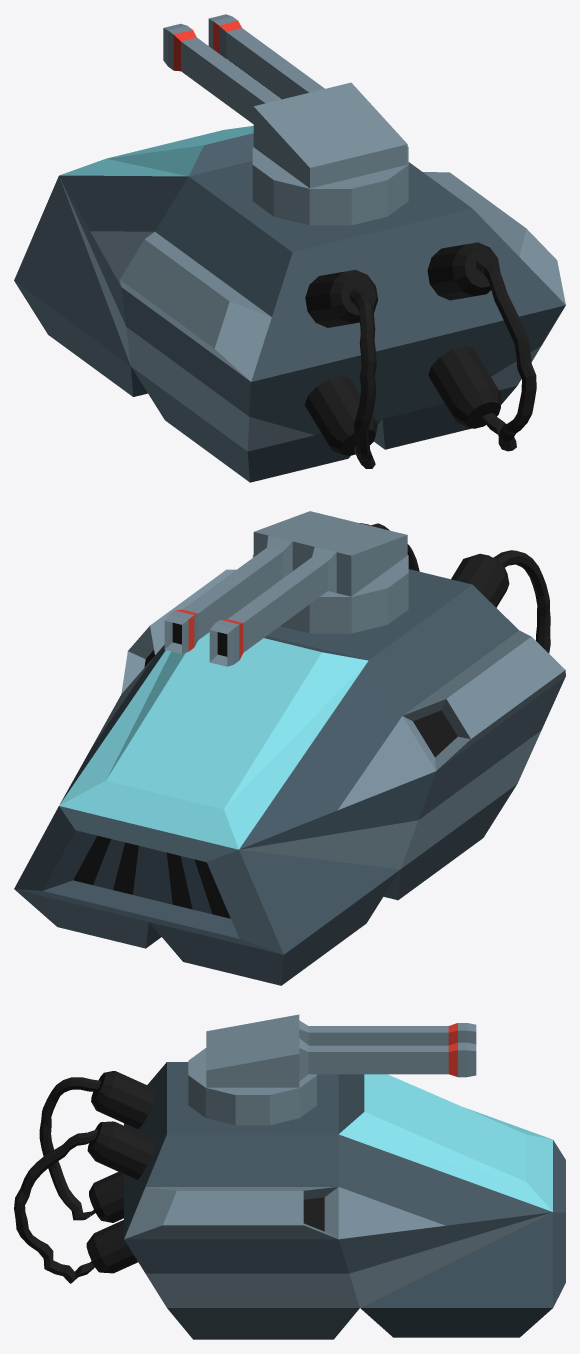
The model's file is scene_CnS5qkWtZE.glb.
3 renders of one model, top to bottom at view 1: azimuth 30°, elevation 25°; view 2: azimuth 150°, elevation 25°; view 3: azimuth 270°, elevation 25°, orthographic. The views are drawn at different scales.
Visible parts, largest first — view 1: group1538145713, group124758516, group164901870, group1720164203, group2122038685, group1426099263, group126274961, group129962282, group714026519; view 2: group1538145713, group124758516, group164901870, group129962282, group714026519; view 3: group1538145713, group124758516, group164901870, group2122038685, group126274961, group129962282, group714026519, group1720164203, group1426099263.
Part boxes in pixels (bbox=[...]): group1538145713: bbox=[14, 126, 565, 482]; group124758516: bbox=[163, 14, 407, 188]; group164901870: bbox=[252, 147, 408, 225]; group1720164203: bbox=[428, 346, 501, 428]; group2122038685: bbox=[476, 257, 536, 451]; group1426099263: bbox=[305, 376, 377, 455]; group126274961: bbox=[427, 242, 500, 300]; group129962282: bbox=[305, 269, 378, 327]; group714026519: bbox=[349, 289, 376, 468]; group1538145713: bbox=[14, 569, 565, 985]; group124758516: bbox=[164, 511, 407, 666]; group164901870: bbox=[252, 555, 408, 633]; group129962282: bbox=[451, 553, 509, 607]; group714026519: bbox=[493, 550, 550, 653]; group1538145713: bbox=[124, 1062, 565, 1339]; group124758516: bbox=[206, 1014, 476, 1087]; group164901870: bbox=[188, 1048, 316, 1125]; group2122038685: bbox=[14, 1129, 98, 1283]; group126274961: bbox=[87, 1121, 155, 1179]; group129962282: bbox=[91, 1071, 156, 1128]; group714026519: bbox=[39, 1077, 100, 1220]; group1720164203: bbox=[86, 1220, 137, 1273]; group1426099263: bbox=[89, 1172, 123, 1222].
Size of the model in its own units: 0.5153 by 0.443 by 0.8577.
